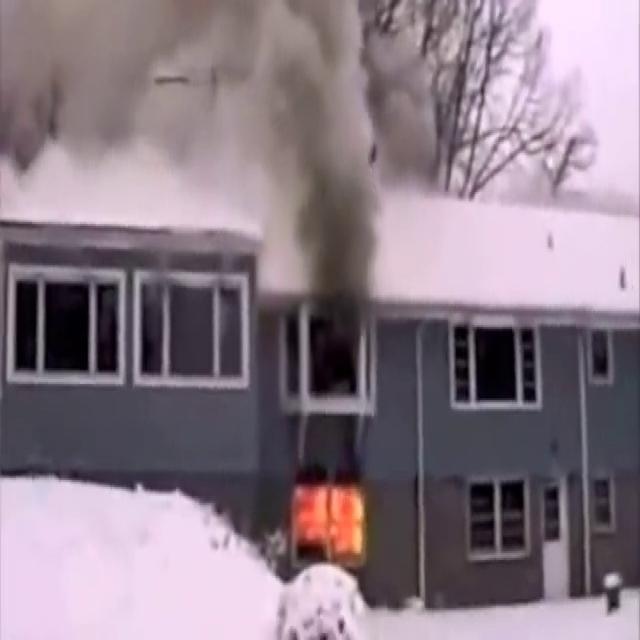Smoke: (0, 1, 407, 243)
